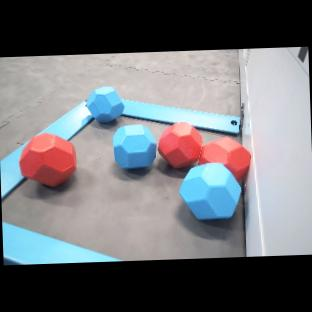Parking - B: (0, 101, 94, 201), (2, 222, 122, 265), (122, 99, 240, 134)
V5_BLUE: (179, 163, 241, 220), (158, 122, 203, 169), (113, 125, 156, 169), (87, 86, 124, 123)
V5_RED: (19, 133, 77, 187), (199, 137, 250, 181), (158, 122, 203, 169)
